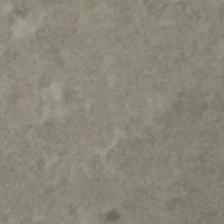Non_Crack: (24, 16, 186, 164)
